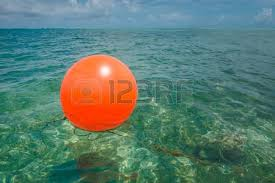buoy: (60, 55, 138, 133)
